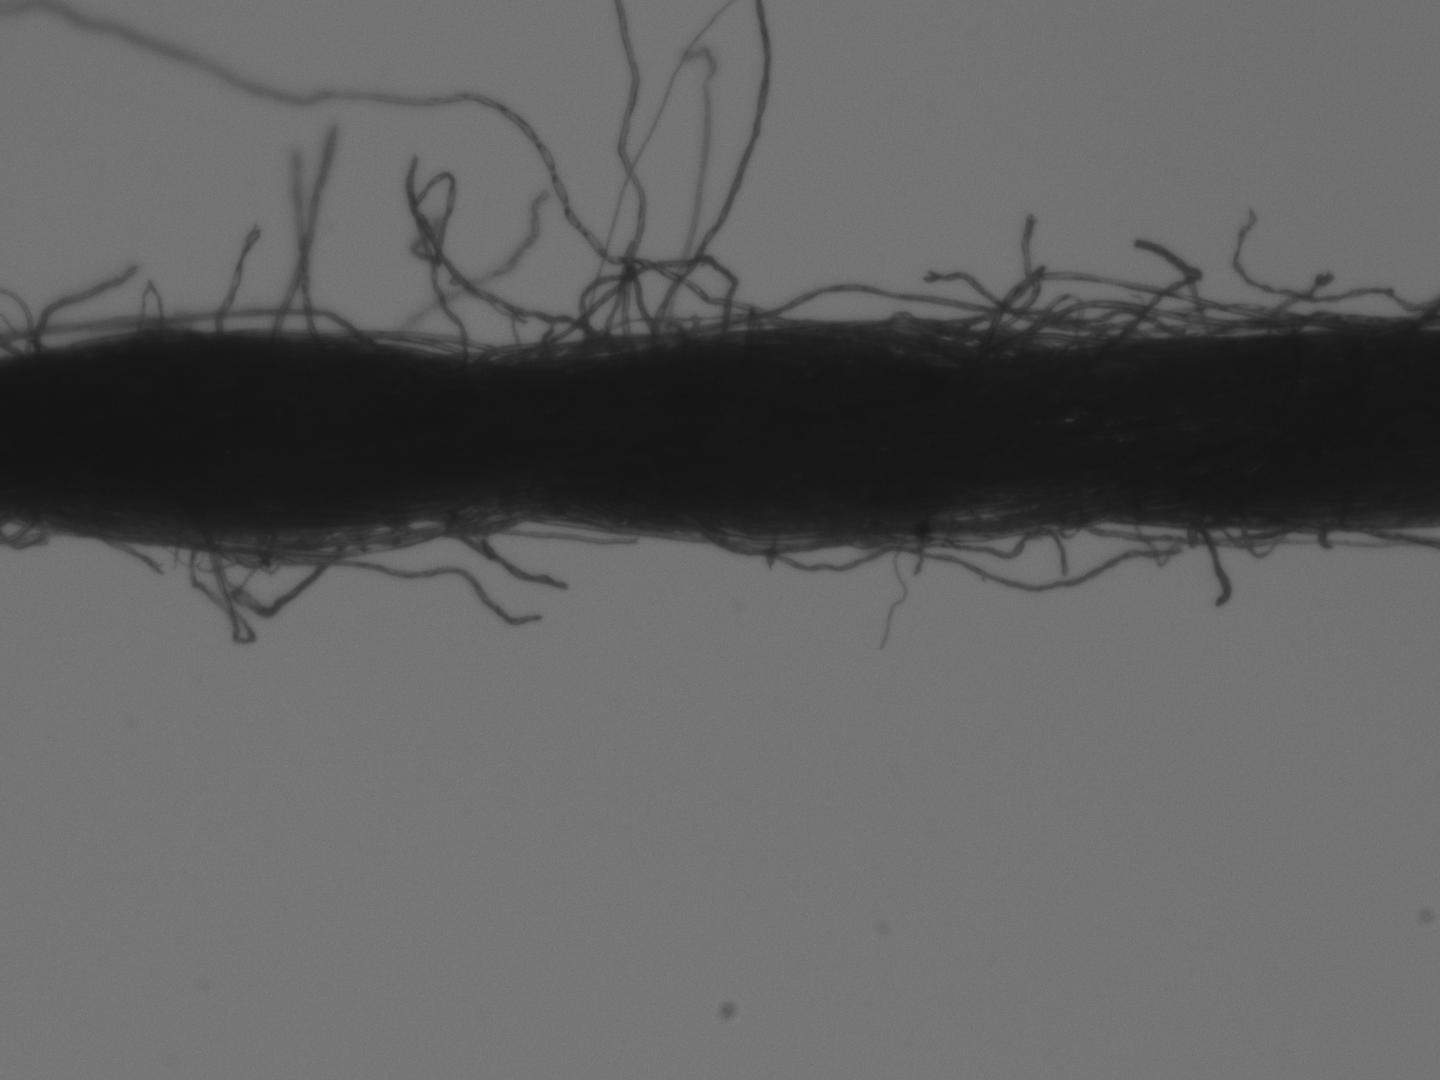loop_fiber: (759, 523, 1189, 592), (909, 267, 1303, 341), (744, 279, 1100, 346), (210, 499, 520, 568), (2, 304, 362, 360), (551, 254, 740, 347), (210, 518, 346, 617), (1007, 296, 1188, 347), (27, 264, 134, 346), (1078, 517, 1321, 549), (849, 525, 1037, 559), (576, 270, 659, 345), (1210, 317, 1372, 341), (704, 531, 848, 558), (344, 334, 486, 360), (1218, 518, 1296, 548), (700, 319, 786, 336), (1250, 521, 1284, 557)
protruding_fiber: (20, 0, 759, 318), (306, 541, 551, 626), (1230, 206, 1424, 309), (265, 121, 338, 336), (444, 512, 570, 593), (985, 211, 1037, 326), (212, 226, 259, 336), (291, 155, 317, 345), (1196, 523, 1227, 608)
